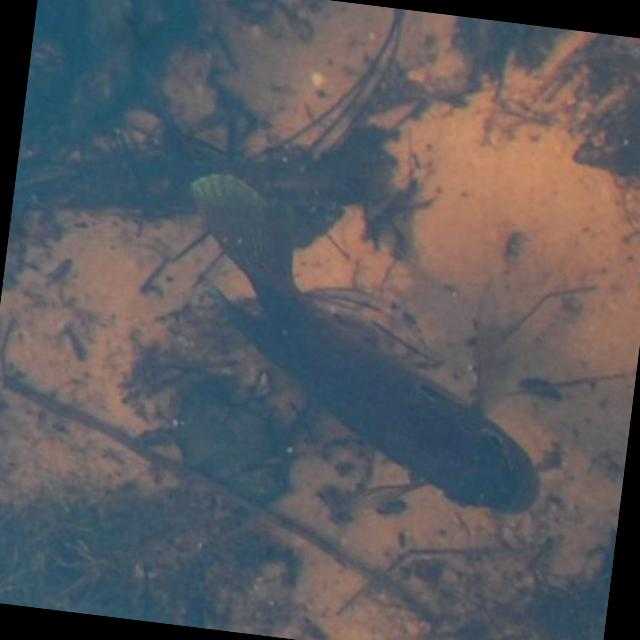Gunes Levregi: (146, 167, 580, 518)
